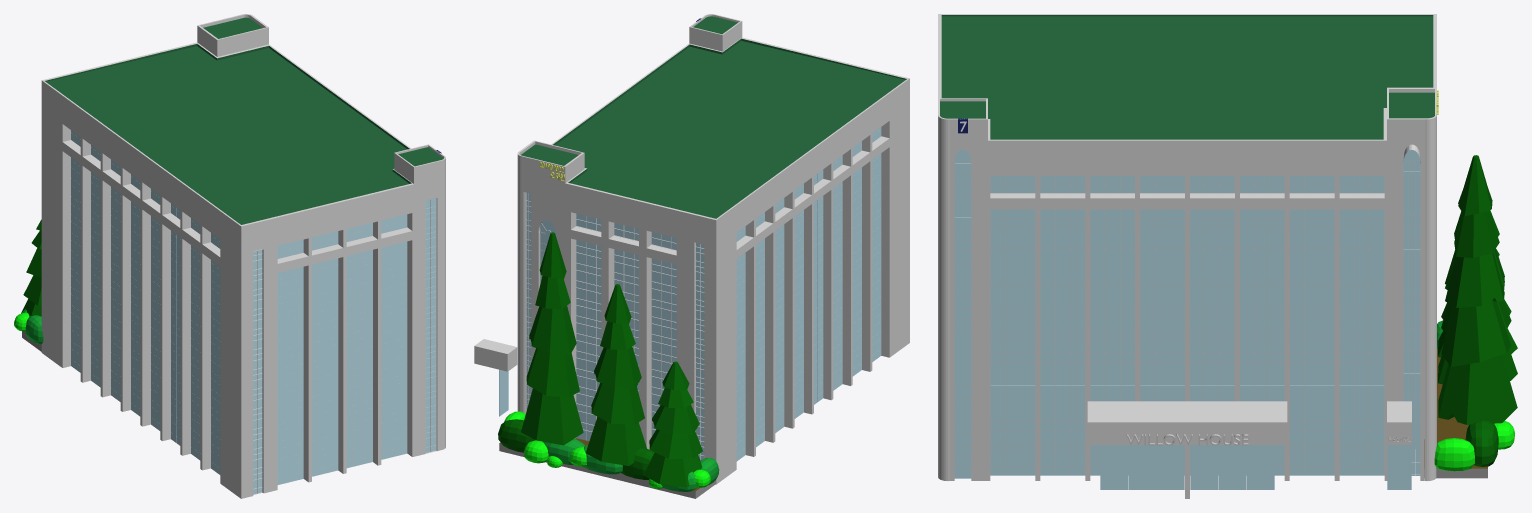
3 renders of one model, left to right at view 1: azimuth 30°, elevation 25°; view 2: azimuth 150°, elevation 25°; view 3: azimuth 270°, elevation 25°, orthographic. The views are drawn at different scales.
Parts seen in each view (by area): view 1: B7; view 2: B7; view 3: B7.
Part boxes in pixels (x1,y1,x2,y2): B7: (14,14,445,498); B7: (474,14,909,498); B7: (938,14,1517,498).
Size of the model in its own units: 157 by 160 by 232.
